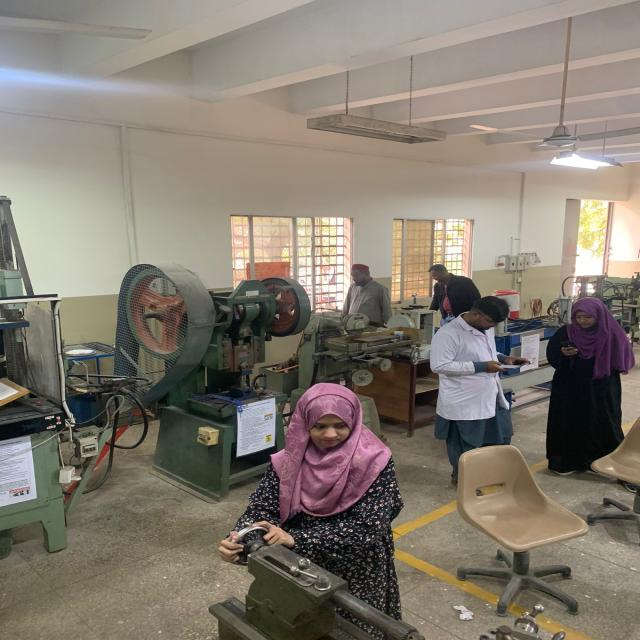labcoat: (428, 308, 516, 421)
